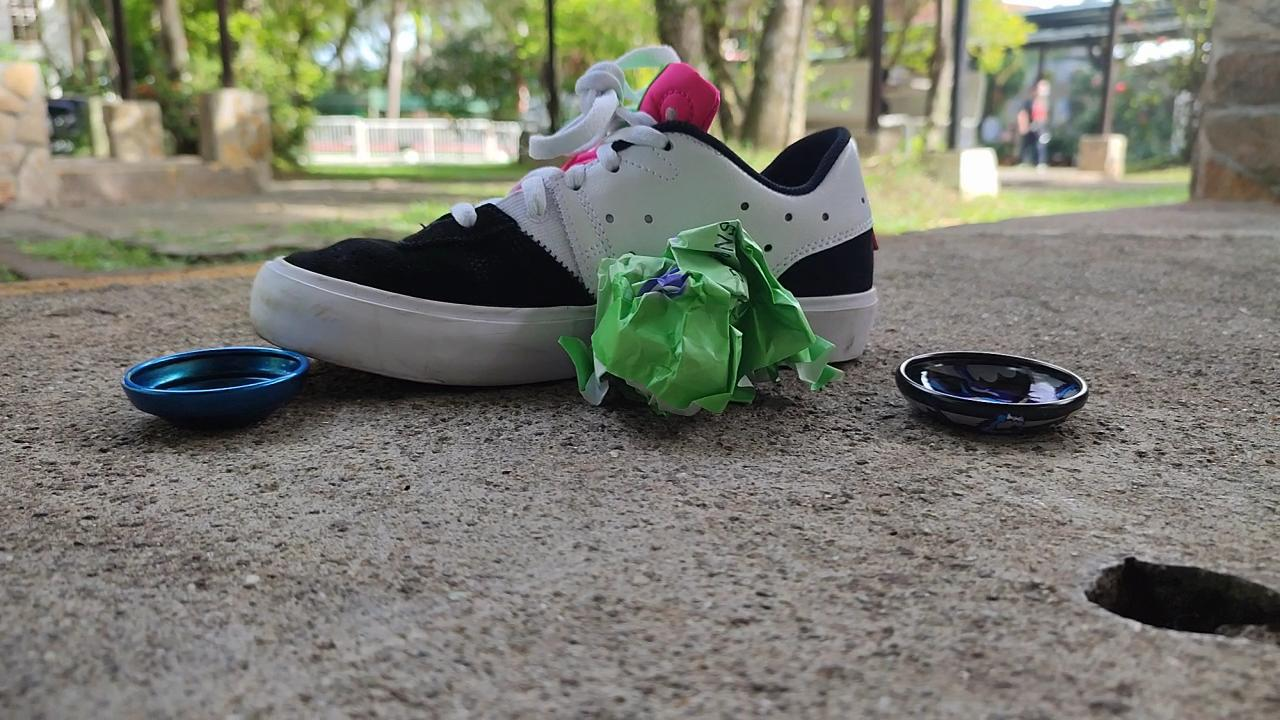Paper: (551, 208, 853, 436)
